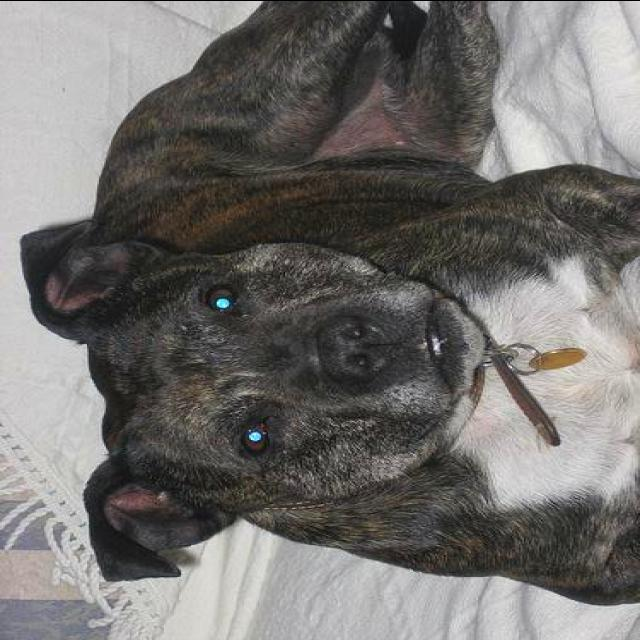staffordshire_bullterrier: (16, 2, 638, 610)
